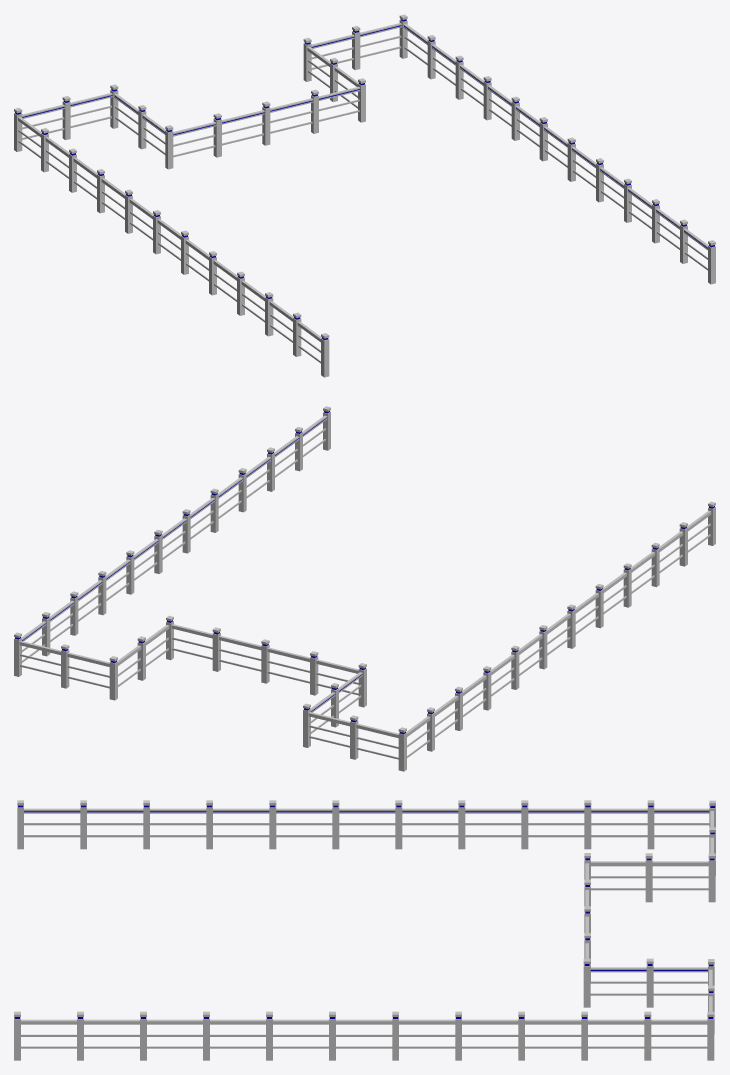
The model's file is Fencing.fbx.
3 views of the same model, one above another, from view 1: azimuth 30°, elevation 25°; view 2: azimuth 150°, elevation 25°; view 3: azimuth 270°, elevation 25° (orthographic). The views are drawn at different scales.
Parts seen in each view (by area): view 1: Fencing; view 2: Fencing; view 3: Fencing.
Boxes of the visible parts, x1,y1,x2,y2 form: Fencing: (14, 14, 715, 377); Fencing: (14, 406, 715, 771); Fencing: (14, 800, 715, 1060).
Bounding box in the file's own units: 9.69 × 0.9741 × 13.42.
